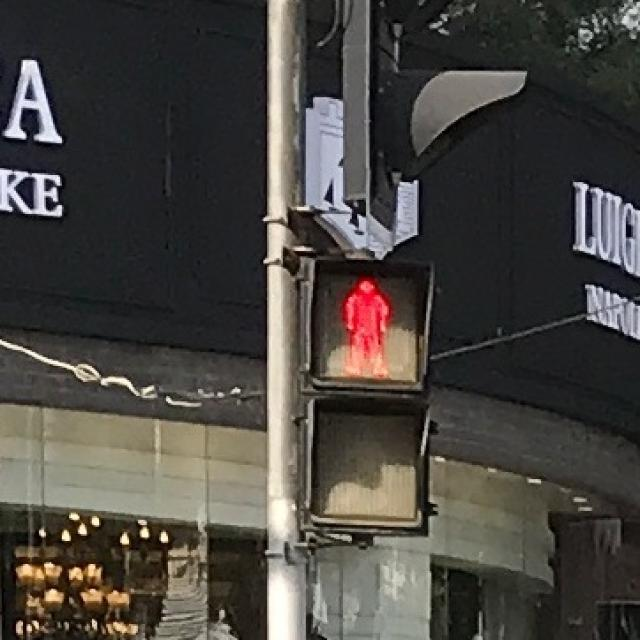red_light: (318, 262, 410, 387)
